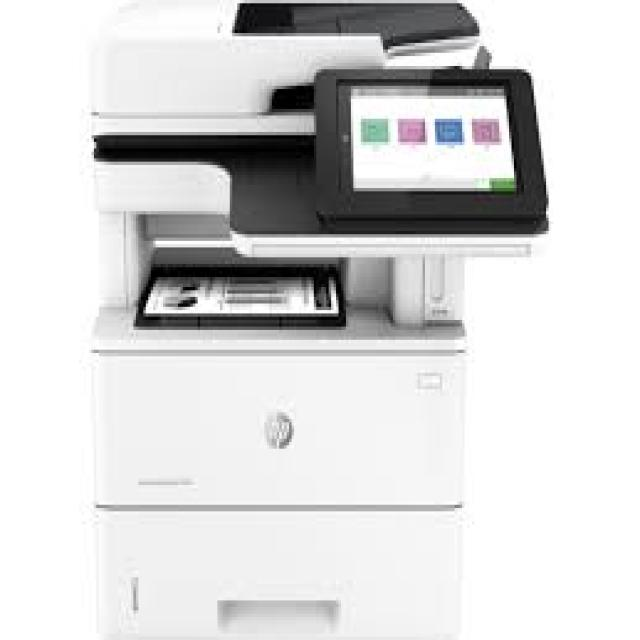printer: (86, 0, 548, 327)
